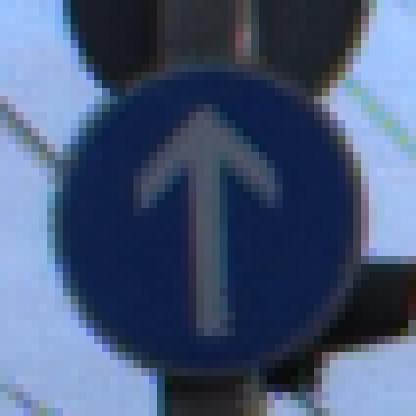AheadOnly: (40, 49, 378, 377)
